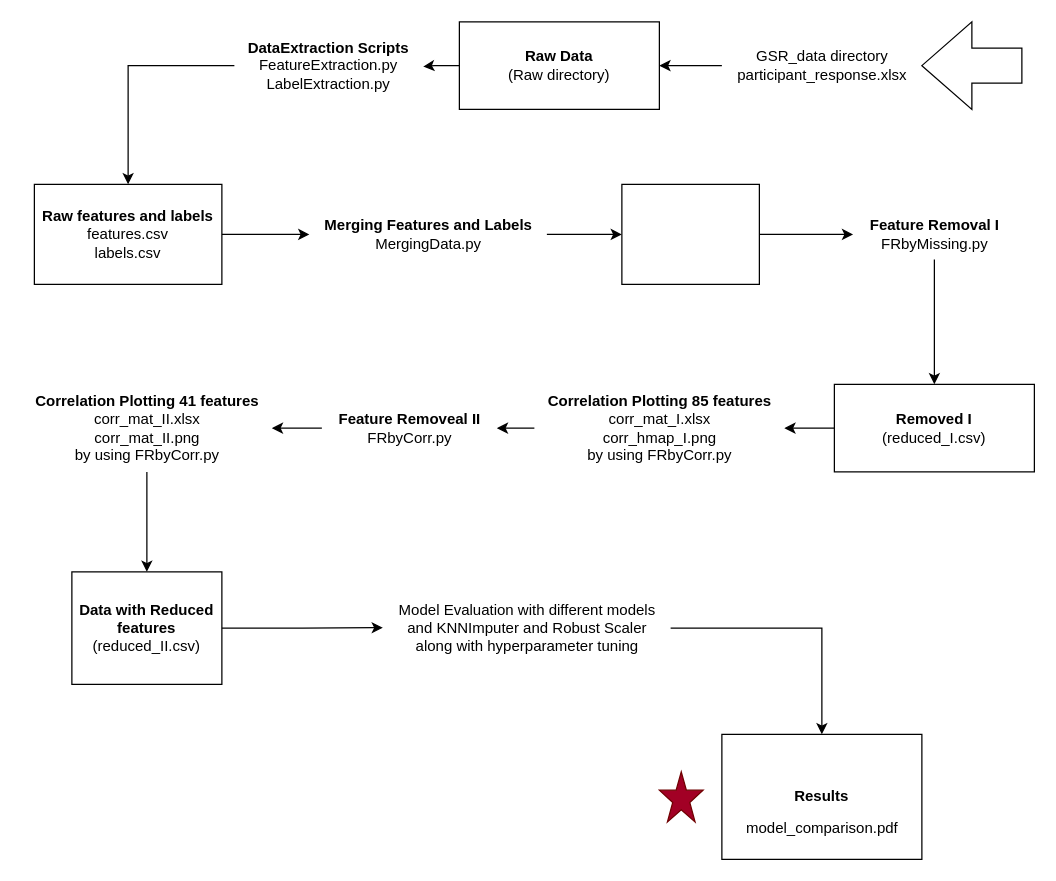
The diagram is 1056 pixels wide and 881 high, and some of its shapes have lost their labels. Here are the shapes that lost their labels. From the top down, the centre of each, then its label:
At point (971, 65): "Start".
At point (690, 233): "Merged Data (merged.csv)".
